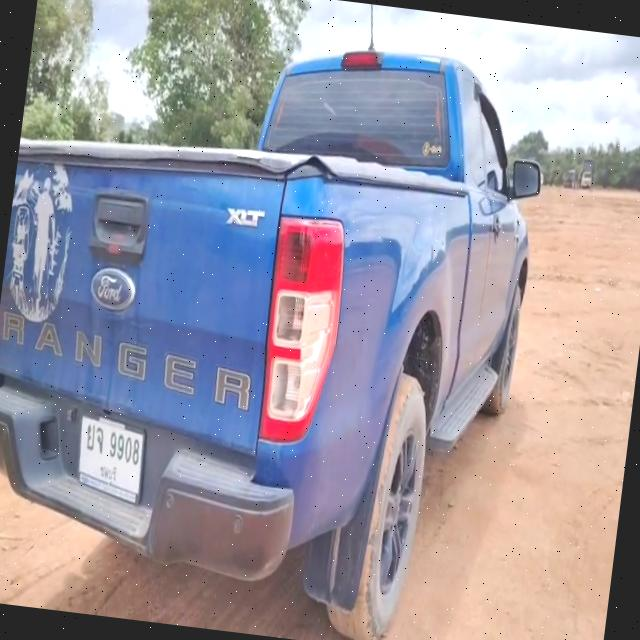Digit: (106, 429, 142, 464)
Licenseplate: (76, 409, 146, 505)
Provincename: (95, 461, 118, 485)
Thaichar: (83, 420, 105, 456)
